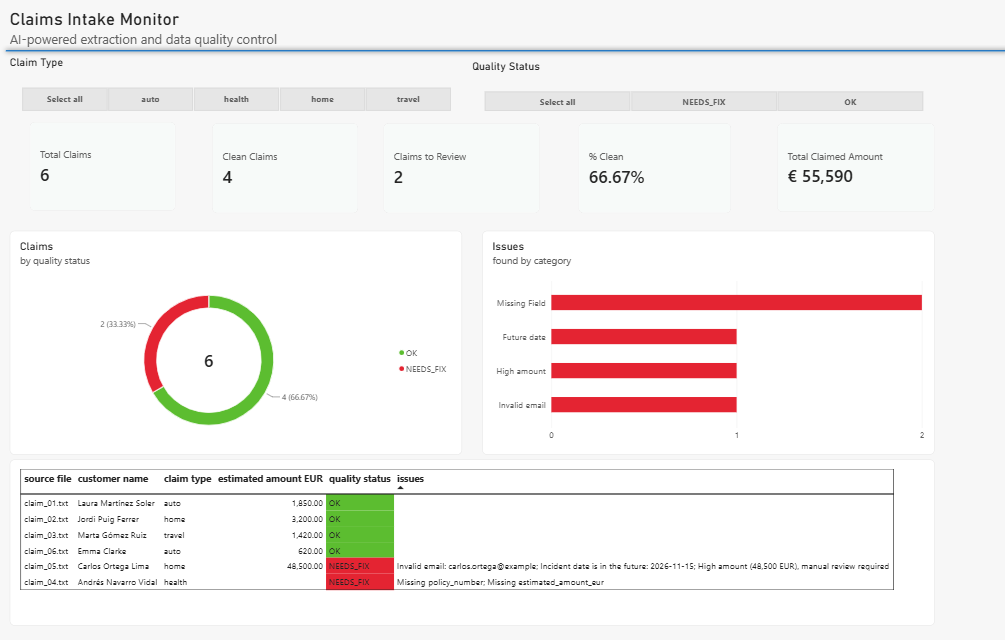

The page's visual inventory and layout, read from the dashboard file:
{"tool":"powerbi","page":{"name":"Page 1","canvas":[1920,1080],"ordinal":0},"visuals":[{"type":"cardVisual","fields":{"Data":["claims_quality_report.% Clean"]},"box":[959.2,207.9,251.1,148.2],"z":0},{"type":"cardVisual","fields":{"Data":["claims_quality_report.Claims to Review"]},"box":[638.1,207.9,257.3,148.2],"z":1000},{"type":"cardVisual","fields":{"Data":["claims_quality_report.Clean Claims"]},"box":[356.1,207.9,240.8,148.2],"z":2000},{"type":"cardVisual","fields":{"Data":["claims_quality_report.Total Claimed Amount"]},"box":[1286.5,207.9,259.3,146.1],"z":3000},{"type":"cardVisual","fields":{"Data":["claims_quality_report.Total Claims"]},"box":[55.6,205.8,240.8,146.1],"z":4000},{"type":"donutChart","title":"Claims ","fields":{"Category":["claims_quality_report.quality_status"],"Y":["claims_quality_report.Total Claims"]},"box":[22.6,384.9,745.1,368.4],"z":5000},{"type":"clusteredBarChart","title":"Issues ","fields":{"Category":["Issues.issues_category"],"Y":["CountNonNull(Issues.source_file)"]},"box":[800.7,384.9,745.1,368.4],"z":6000},{"type":"tableEx","fields":{"Values":["claims_quality_report.source_file","claims_quality_report.customer_name","claims_quality_report.claim_type","Sum(claims_quality_report.estimated_amount_eur)","claims_quality_report.quality_status","claims_quality_report.issues"]},"box":[22.6,761.6,1523.2,273.8],"z":7000},{"type":"textbox","title":"Claims Intake Monitor","box":[22.6,18.5,1794.9,84.4],"z":8000},{"type":"shape","box":[8.2,74.1,1862.8,28.8],"z":9000},{"type":"slicer","title":"Claim Type","fields":{"Values":["claims_quality_report.claim_type"]},"box":[22.6,96.7,745.1,92.6],"z":10000},{"type":"slicer","title":"Quality Status","fields":{"Values":["claims_quality_report.quality status"]},"box":[784.2,102.9,761.6,86.4],"z":10001}]}

Visuals, with their boxes on the page's 1920x1080 design canvas (x1, y1, x2, y2). These are canvas units, not pixel positions in the 1005x640 screenshot, which may show the page scaled, cropped or inside an application window:
cardVisual - claims_quality_report.% Clean: pyautogui.locateOnScreen(959, 208, 1210, 356)
cardVisual - claims_quality_report.Claims to Review: pyautogui.locateOnScreen(638, 208, 895, 356)
cardVisual - claims_quality_report.Clean Claims: pyautogui.locateOnScreen(356, 208, 597, 356)
cardVisual - claims_quality_report.Total Claimed Amount: pyautogui.locateOnScreen(1286, 208, 1546, 354)
cardVisual - claims_quality_report.Total Claims: pyautogui.locateOnScreen(56, 206, 296, 352)
"Claims " donutChart: pyautogui.locateOnScreen(23, 385, 768, 753)
"Issues " clusteredBarChart: pyautogui.locateOnScreen(801, 385, 1546, 753)
tableEx - claims_quality_report.source_file x claims_quality_report.customer_name: pyautogui.locateOnScreen(23, 762, 1546, 1035)
"Claims Intake Monitor" textbox: pyautogui.locateOnScreen(23, 18, 1818, 103)
shape: pyautogui.locateOnScreen(8, 74, 1871, 103)
"Claim Type" slicer: pyautogui.locateOnScreen(23, 97, 768, 189)
"Quality Status" slicer: pyautogui.locateOnScreen(784, 103, 1546, 189)
